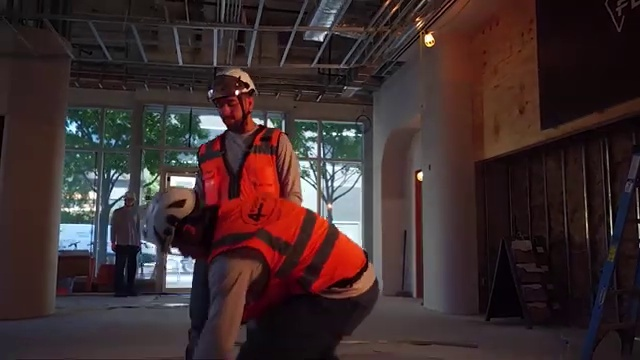helmet: (131, 194, 198, 253), (205, 54, 248, 100)
jacket: (205, 191, 380, 313), (188, 121, 309, 193)
